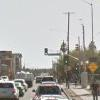Car: (32, 71, 64, 100)
